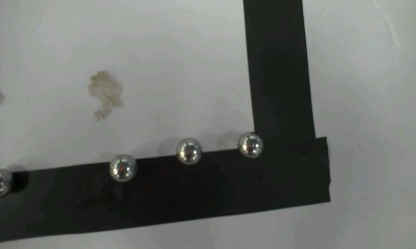ironball: (108, 153, 136, 182), (175, 137, 202, 165), (237, 131, 263, 159), (0, 168, 13, 197)
